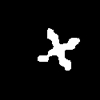single_crochet: (38, 28, 79, 69)
